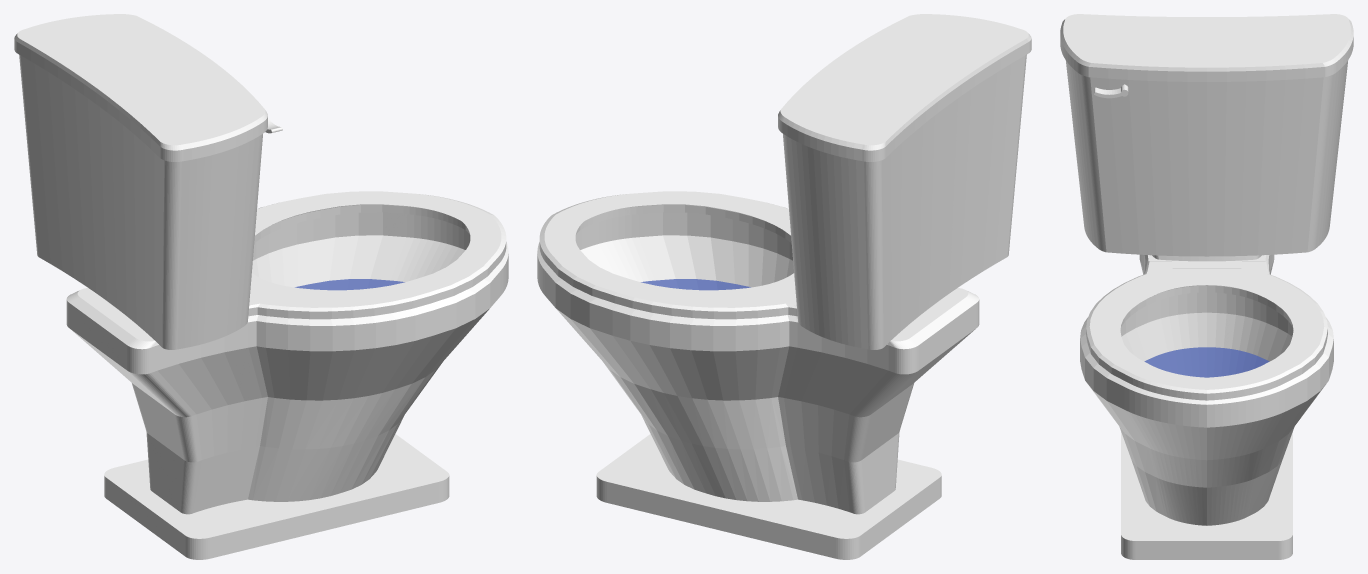
File: flush.dae
The picture shows the model from 3 angles, left to right: view 1: azimuth 30°, elevation 25°; view 2: azimuth 150°, elevation 25°; view 3: azimuth 270°, elevation 25°; orthographic projection. The views are drawn at different scales.
Visible parts, largest first — view 1: Component3 (×4), Component2, Component1, Component4 (×2); view 2: Component3 (×4), Component2, Component1, Component4 (×2); view 3: Component3 (×5), Component2, Component1, Component4 (×2).
Part boxes in pixels (box(x1,y1,x2,y2)): Component3 (×4): box(66, 212, 508, 559); Component2: box(19, 54, 262, 349); Component1: box(14, 14, 267, 161); Component4 (×2): box(248, 191, 506, 319); Component3 (×4): box(537, 212, 979, 559); Component2: box(783, 54, 1026, 349); Component1: box(778, 14, 1031, 161); Component4 (×2): box(539, 191, 797, 319); Component3 (×5): box(1080, 254, 1333, 559); Component2: box(1066, 61, 1347, 256); Component1: box(1060, 14, 1353, 81); Component4 (×2): box(1086, 261, 1327, 400).
Size of the model in its own units: 27.76 by 19.24 by 29.4.
Materials: 2 (2 with a texture image).
